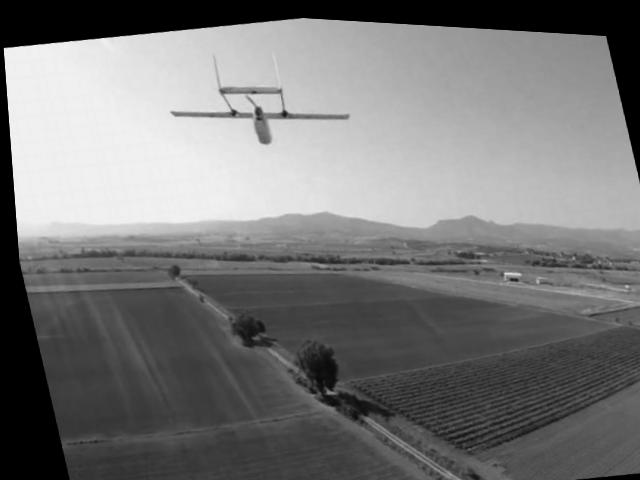hedef: (149, 23, 362, 172)
